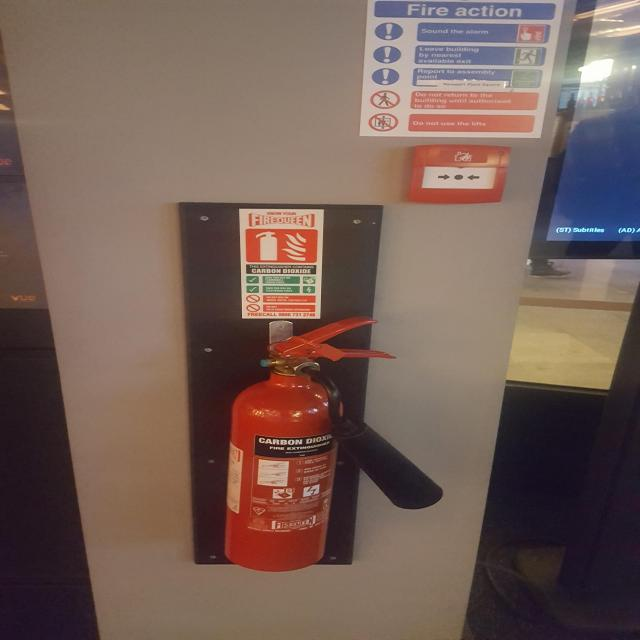fire_extinguisher: (217, 312, 453, 575)
